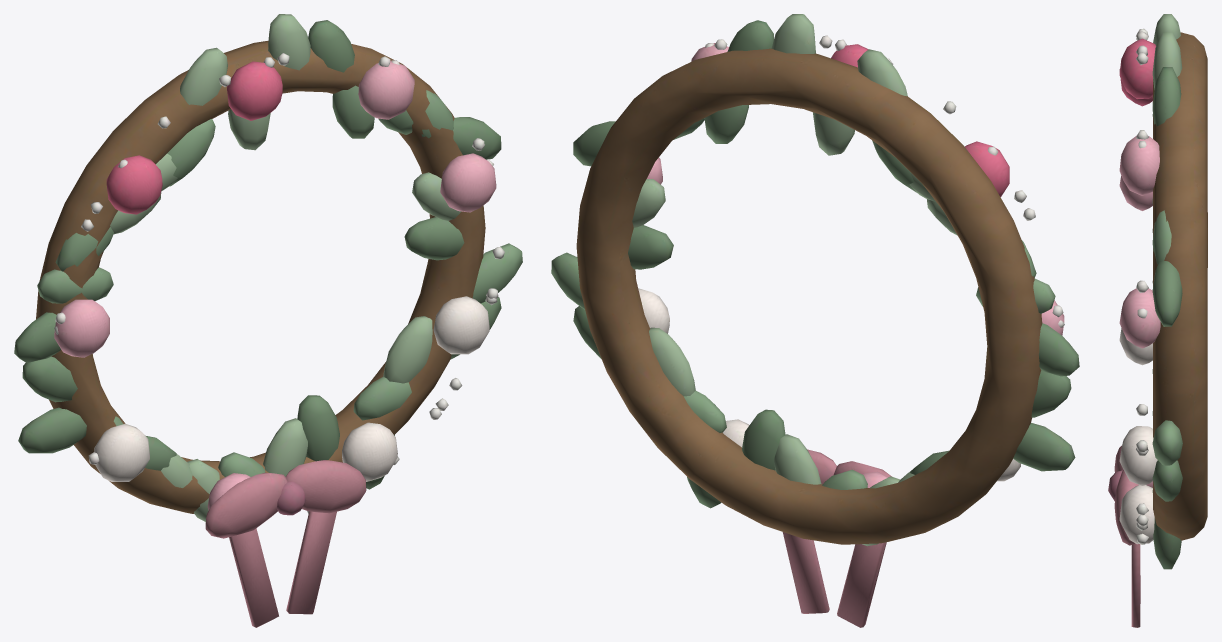
The model's file is scene-wreath.glb.
3 renders of one model, left to right at view 1: azimuth 30°, elevation 25°; view 2: azimuth 150°, elevation 25°; view 3: azimuth 270°, elevation 25°, orthographic. The views are drawn at different scales.
Visible parts, largest first — view 1: scene-wreath; view 2: scene-wreath; view 3: scene-wreath.
Part boxes in pixels (x1,y1,x2,y2): scene-wreath: (14, 14, 522, 627); scene-wreath: (551, 14, 1079, 627); scene-wreath: (1108, 14, 1207, 627).
Size of the model in its own units: 0.4027 by 0.45 by 0.069.
Materials: 1 (1 with a texture image).
